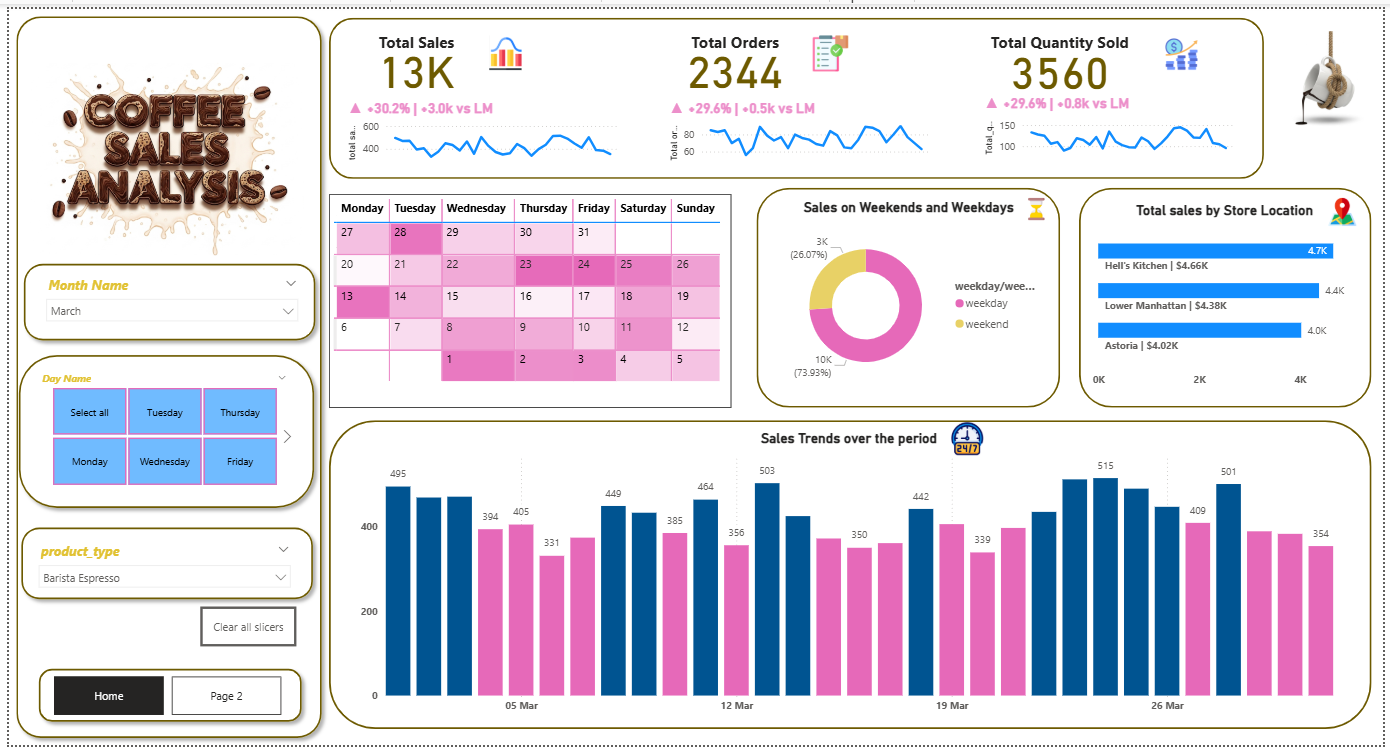

Layout of this report page (visuals, bound fields, positions):
{"tool":"powerbi","page":{"name":"Home","canvas":[1680,900],"ordinal":0},"visuals":[{"type":"shape","box":[914.1,218.6,371.4,269],"z":0},{"type":"shape","box":[391.3,10.7,1143.3,197.2],"z":1000},{"type":"shape","box":[9.2,302.7,374.5,111.6],"z":1000,"group":"g1"},{"type":"shape","box":[3.1,414.2,379.1,204.8],"z":1000,"group":"g4"},{"type":"shape","box":[6.1,625.2,374.5,105.5],"z":1000,"group":"g5"},{"type":"shape","box":[27.5,797.9,339.3,82.5],"z":1000,"group":"g9"},{"type":"slicer","fields":{"Values":["date.Month Name"]},"box":[35.5,321,328.6,73.4],"z":2000,"group":"g1"},{"type":"slicer","fields":{"Values":["date.Day Name"]},"box":[27.4,438.9,324.1,149.8],"z":2000,"group":"g4"},{"type":"shape","box":[695.5,509,308.8,85.6],"z":2000},{"type":"slicer","fields":{"Values":["coffee_shop_sales.product_type"]},"box":[26.5,646.9,328.6,68.8],"z":2000,"group":"g5"},{"type":"shape","box":[0,0,391.3,900.3],"z":3000},{"type":"image","box":[1545.4,0,134.5,178.8],"z":4000},{"type":"image","box":[19.9,27.5,347,311.8],"z":5000},{"type":"group","id":"g1","title":"Group 2","box":[9.2,302.7,374.5,111.6],"z":6000},{"type":"pivotTable","fields":{"Rows":["date.Week No"],"Columns":["date.Day Name"],"Values":["Min(date.Day Number)"]},"box":[391.3,226.2,492.2,261.4],"z":7000},{"type":"group","id":"g2","title":"Group 3","box":[933.9,232.3,333.2,243],"z":8000},{"type":"image","box":[573.2,27.5,64.2,52],"z":9000},{"type":"card","title":"Total Sales","fields":{"Values":["coffee_shop_sales.total sales measure"]},"box":[409.6,27.5,177.3,82.5],"z":10000,"group":"g6"},{"type":"card","title":"Total Orders","fields":{"Values":["coffee_shop_sales.Total orders"]},"box":[802.5,27.5,170.9,82.5],"z":10000,"group":"g7"},{"type":"image","box":[973.7,27.5,61.1,53.5],"z":10000},{"type":"card","title":"Total Quantity Sold","fields":{"Values":["coffee_shop_sales.Total_qty_sold"]},"box":[1183.1,27.5,204.1,85.2],"z":10000,"group":"g8"},{"type":"donutChart","title":"Sales on Weekends and Weekdays","fields":{"Category":["date.weekday/weekend"],"Y":["coffee_shop_sales.total sales measure"]},"box":[933.9,232.3,332.7,242],"z":10000,"group":"g2"},{"type":"image","box":[1409.3,27.5,48.9,55],"z":11000},{"type":"group","id":"g3","title":"Group 4","box":[1308.4,218.6,357.7,269],"z":12000},{"type":"shape","box":[1308.4,218.6,357.7,269],"z":13000,"group":"g3"},{"type":"group","id":"g4","title":"Group 2","box":[3.1,414.2,379.1,204.8],"z":13000},{"type":"lineChart","fields":{"Category":["date.Date.Variation.Date Hierarchy.Year","date.Date.Variation.Date Hierarchy.Quarter","date.Date.Variation.Date Hierarchy.Month","date.Date.Variation.Date Hierarchy.Day"],"Y":["coffee_shop_sales.Total_qty_sold"]},"box":[1187.1,104.4,315.5,80.5],"z":14000,"group":"g8"},{"type":"lineChart","fields":{"Y":["coffee_shop_sales.Total Sales"],"Category":["date.Date.Variation.Date Hierarchy.Year","date.Date.Variation.Date Hierarchy.Quarter","date.Date.Variation.Date Hierarchy.Month","date.Date.Variation.Date Hierarchy.Day"]},"box":[409.6,110,340.9,81],"z":14000,"group":"g6"},{"type":"lineChart","fields":{"Category":["date.Date.Variation.Date Hierarchy.Year","date.Date.Variation.Date Hierarchy.Quarter","date.Date.Variation.Date Hierarchy.Month","date.Date.Variation.Date Hierarchy.Day"],"Y":["coffee_shop_sales.Total orders"]},"box":[802.5,110,328.6,81],"z":14000,"group":"g7"},{"type":"clusteredBarChart","title":"Total sales by Store Location","fields":{"Y":["coffee_shop_sales.total sales measure","coffee_shop_sales.placeholder"],"Category":["coffee_shop_sales.store_location"]},"box":[1319.8,236.1,334.8,235.6],"z":14000,"group":"g3"},{"type":"actionButton","box":[233.9,730.6,117.7,48.9],"z":14000},{"type":"group","id":"g5","title":"Group 2","box":[6.1,625.2,374.5,105.5],"z":15000},{"type":"shape","box":[391.3,502.9,1274.8,377.5],"z":16000},{"type":"group","id":"g6","title":"Group 1","box":[409.6,27.5,340.9,163.6],"z":17000},{"type":"group","id":"g7","title":"Group 1","box":[802.5,27.5,328.6,163.6],"z":18000},{"type":"group","id":"g8","title":"Group 1","box":[1183.1,27.5,319.5,157.4],"z":19000},{"type":"lineStackedColumnComboChart","title":"Sales Trends over the period ","fields":{"Category":["coffee_shop_sales.transaction_date"],"Y":["coffee_shop_sales.total sales measure"]},"box":[424.9,515.1,1204.5,354.6],"z":20000},{"type":"group","id":"g9","title":"Group 2","box":[27.5,797.9,339.3,82.5],"z":21000},{"type":"image","box":[1600.4,226.2,59.6,44.3],"z":22000},{"type":"image","box":[1227.4,226.2,58.1,36.7],"z":23000},{"type":"image","box":[1141.8,499.8,45.9,52],"z":24000},{"type":"pageNavigator","box":[55,816.2,278.2,47.4],"z":25000}]}

Visuals, with their boxes in screenshot pixels (x1, y1, x2, y2), scaled from the page's 1680x900 canvas onto the 1390x748 screenshot:
shape: (left=756, top=182, right=1064, bottom=405)
shape: (left=324, top=9, right=1270, bottom=173)
shape: (left=8, top=252, right=317, bottom=344)
shape: (left=3, top=344, right=316, bottom=514)
shape: (left=5, top=520, right=315, bottom=607)
shape: (left=23, top=663, right=303, bottom=732)
slicer - date.Month Name: (left=29, top=267, right=301, bottom=328)
slicer - date.Day Name: (left=23, top=365, right=291, bottom=489)
shape: (left=575, top=423, right=831, bottom=494)
slicer - coffee_shop_sales.product_type: (left=22, top=538, right=294, bottom=595)
shape: (left=0, top=0, right=324, bottom=747)
image: (left=1279, top=0, right=1389, bottom=149)
image: (left=16, top=23, right=304, bottom=282)
"Group 2" group: (left=8, top=252, right=317, bottom=344)
pivotTable - date.Week No x date.Day Name: (left=324, top=188, right=731, bottom=405)
"Group 3" group: (left=773, top=193, right=1048, bottom=395)
image: (left=474, top=23, right=527, bottom=66)
"Total Sales" card: (left=339, top=23, right=486, bottom=91)
"Total Orders" card: (left=664, top=23, right=805, bottom=91)
image: (left=806, top=23, right=856, bottom=67)
"Total Quantity Sold" card: (left=979, top=23, right=1148, bottom=94)
"Sales on Weekends and Weekdays" donutChart: (left=773, top=193, right=1048, bottom=394)
image: (left=1166, top=23, right=1206, bottom=69)
"Group 4" group: (left=1083, top=182, right=1378, bottom=405)
shape: (left=1083, top=182, right=1378, bottom=405)
"Group 2" group: (left=3, top=344, right=316, bottom=514)
lineChart - date.Date.Variation.Date Hierarchy.Year x date.Date.Variation.Date Hierarchy.Quarter: (left=982, top=87, right=1243, bottom=154)
lineChart - coffee_shop_sales.Total Sales x date.Date.Variation.Date Hierarchy.Year: (left=339, top=91, right=621, bottom=159)
lineChart - date.Date.Variation.Date Hierarchy.Year x date.Date.Variation.Date Hierarchy.Quarter: (left=664, top=91, right=936, bottom=159)
"Total sales by Store Location" clusteredBarChart: (left=1092, top=196, right=1369, bottom=392)
actionButton: (left=194, top=607, right=291, bottom=648)
"Group 2" group: (left=5, top=520, right=315, bottom=607)
shape: (left=324, top=418, right=1378, bottom=732)
"Group 1" group: (left=339, top=23, right=621, bottom=159)
"Group 1" group: (left=664, top=23, right=936, bottom=159)
"Group 1" group: (left=979, top=23, right=1243, bottom=154)
"Sales Trends over the period " lineStackedColumnComboChart: (left=352, top=428, right=1348, bottom=723)
"Group 2" group: (left=23, top=663, right=303, bottom=732)
image: (left=1324, top=188, right=1373, bottom=225)
image: (left=1016, top=188, right=1064, bottom=218)
image: (left=945, top=415, right=983, bottom=459)
pageNavigator: (left=46, top=678, right=276, bottom=718)
